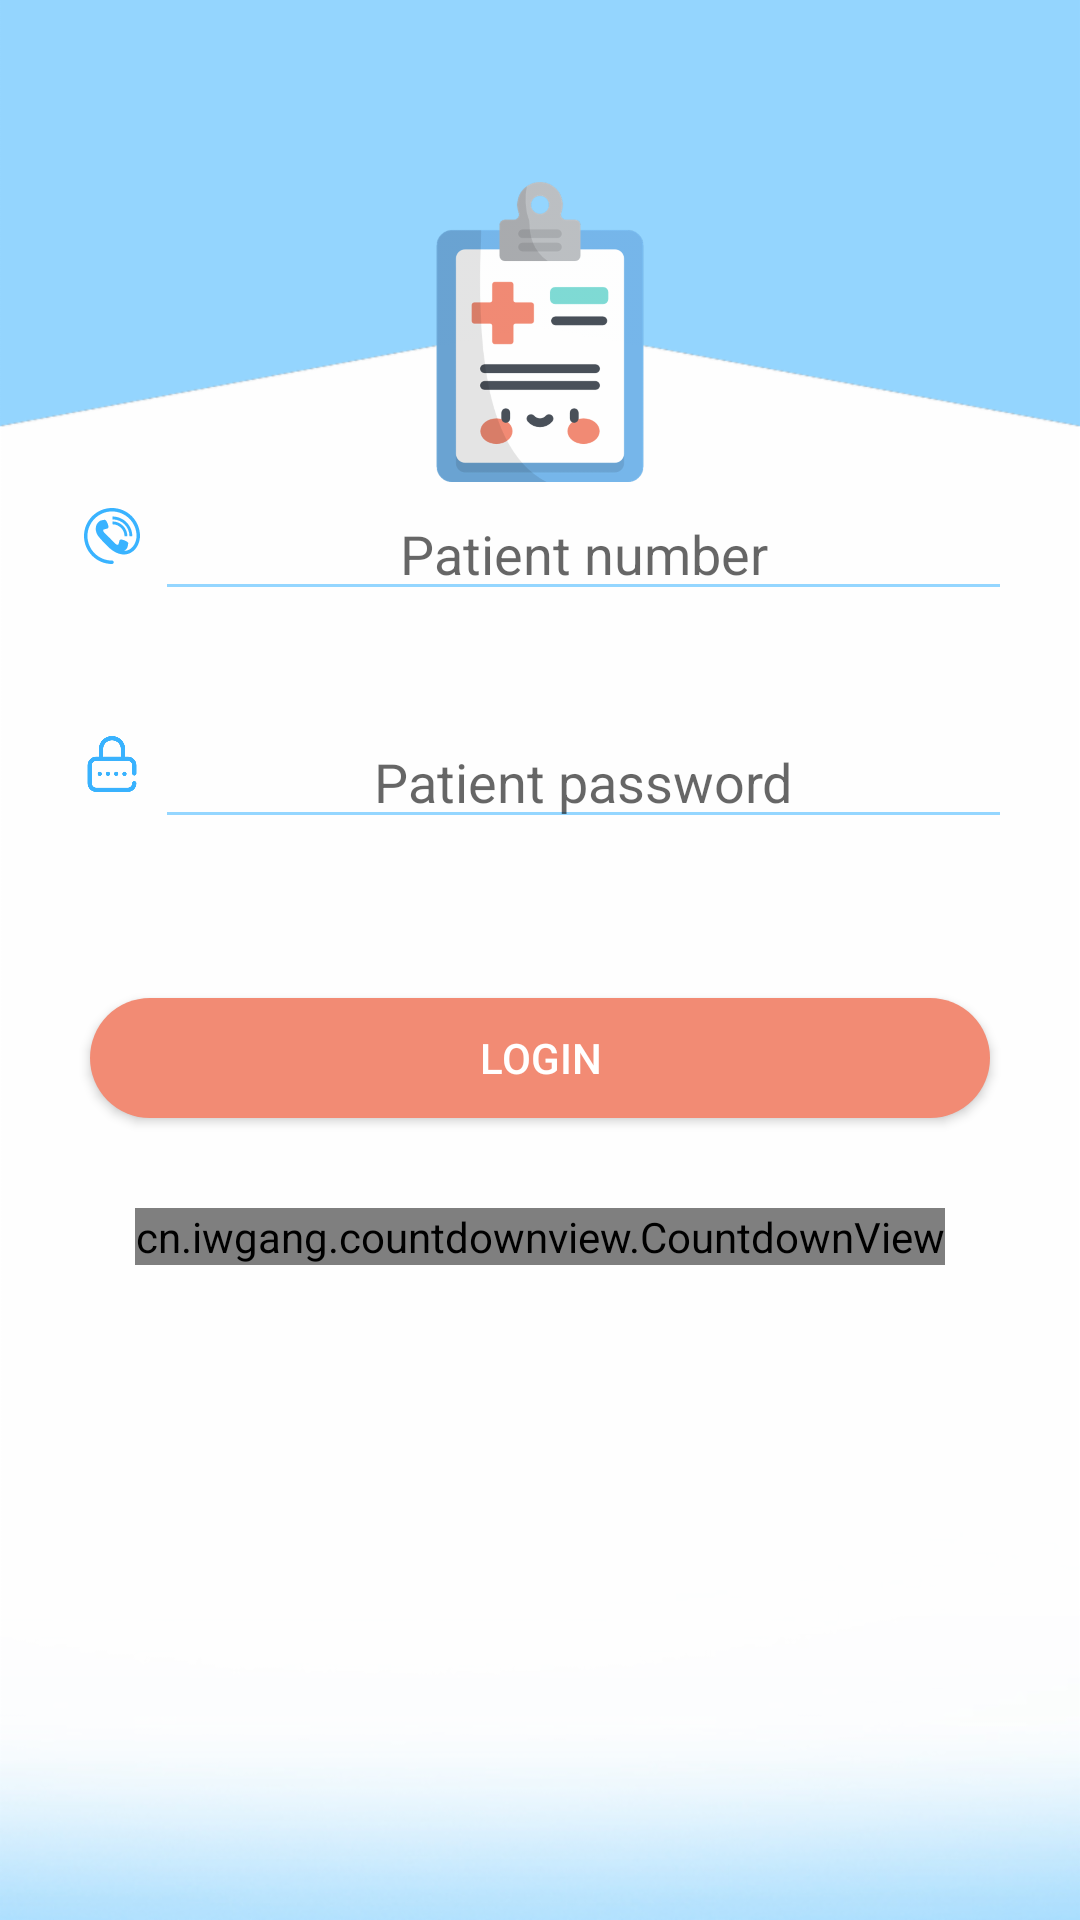

Screen size 1080×1920. Icon name, then its center in pixels as (x=x, y=y):
medical pre: (x=540, y=332)
phone contact: (x=112, y=536)
